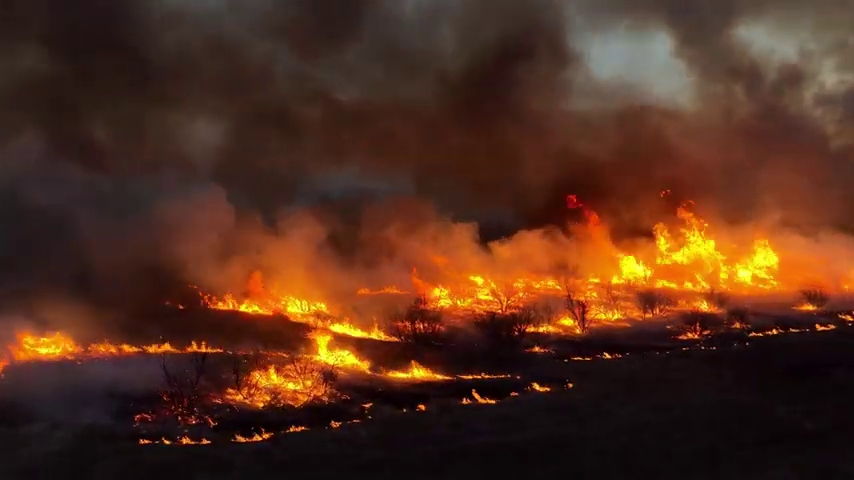forest_fire: (580, 207, 778, 320), (224, 297, 402, 407), (10, 333, 224, 362), (425, 275, 558, 313), (204, 295, 273, 314), (382, 360, 449, 379), (533, 313, 581, 333), (792, 291, 827, 311), (231, 429, 275, 442), (462, 389, 499, 404), (140, 438, 210, 444), (696, 300, 723, 311), (529, 382, 551, 392), (329, 421, 359, 428), (280, 425, 307, 432), (565, 383, 573, 389), (418, 405, 425, 410), (510, 392, 518, 396)
